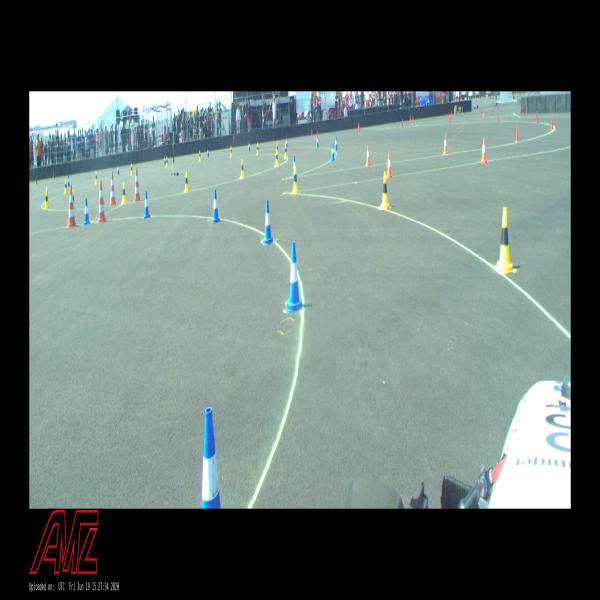blue_cone: (202, 408, 221, 508), (286, 241, 302, 312), (263, 200, 273, 244), (212, 189, 220, 223), (83, 198, 90, 226), (144, 191, 150, 219), (293, 156, 297, 177), (330, 144, 334, 160), (334, 136, 337, 151), (316, 136, 319, 147), (67, 176, 70, 187), (285, 137, 288, 148), (207, 148, 209, 158), (118, 164, 120, 174), (248, 141, 250, 151), (164, 155, 166, 165)
large_orange_cone: (97, 180, 106, 224), (68, 185, 76, 227), (134, 168, 141, 202), (109, 172, 116, 206)
orange_cone: (480, 138, 487, 163), (386, 152, 392, 179), (443, 134, 448, 154), (366, 145, 370, 166)
unknown_cone: (515, 125, 518, 142), (551, 114, 553, 130), (536, 110, 538, 124), (526, 107, 528, 117)
yellow_cone: (495, 207, 514, 274), (380, 172, 390, 210), (292, 166, 299, 194), (44, 186, 50, 208), (44, 185, 50, 203), (121, 183, 126, 204), (184, 172, 189, 193), (240, 159, 245, 178), (275, 151, 279, 166), (64, 179, 68, 194), (284, 144, 288, 159), (72, 189, 75, 209), (256, 143, 259, 155), (166, 154, 168, 168), (95, 171, 97, 184), (276, 142, 278, 155), (199, 150, 201, 162), (131, 163, 133, 175), (230, 146, 232, 157)
